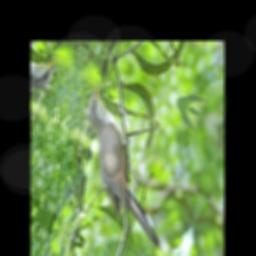Cuckoo: (62, 82, 192, 248)
